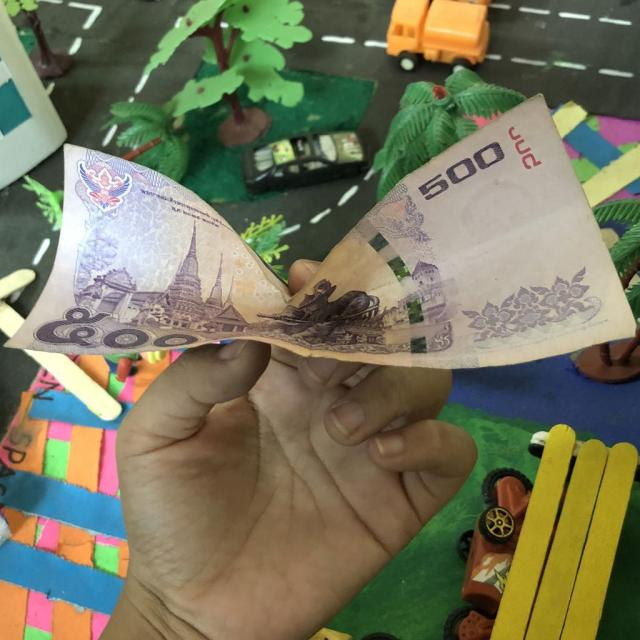THAI500: (8, 95, 638, 372)
